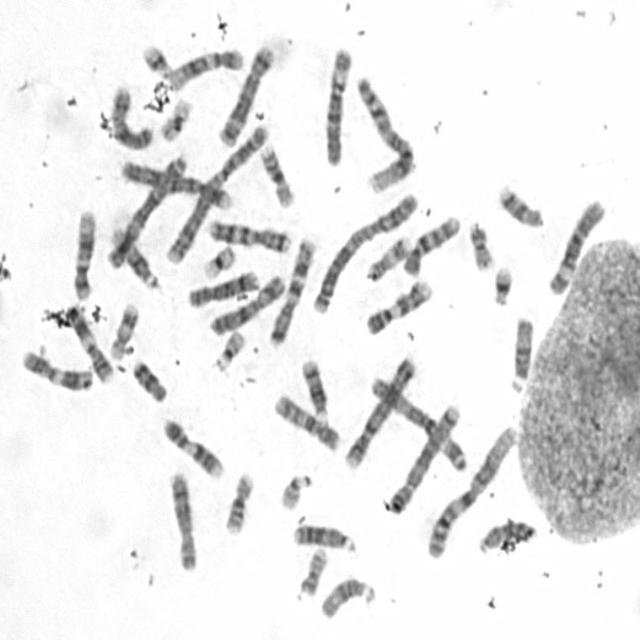A1: (422, 420, 520, 560), (352, 68, 418, 194)
A2: (162, 118, 272, 266), (308, 185, 420, 315)
A3: (364, 368, 470, 473), (102, 146, 189, 270)
B4: (341, 348, 419, 472), (116, 153, 235, 212)
B5: (383, 398, 465, 516), (214, 38, 277, 148)
C10: (268, 386, 343, 454), (397, 208, 463, 278)
C11: (62, 298, 115, 384), (17, 342, 95, 393)
C12: (162, 40, 245, 92), (67, 203, 97, 301)
C6: (543, 191, 607, 297), (317, 41, 354, 168)
C7: (263, 230, 319, 348), (202, 212, 292, 254)
C8: (164, 465, 199, 573), (182, 264, 261, 309)
C9: (157, 410, 227, 480), (361, 272, 434, 337)
D13: (474, 514, 538, 556), (288, 517, 359, 554)
D14: (106, 219, 160, 291), (296, 352, 331, 419)
D15: (316, 570, 378, 621), (506, 309, 535, 392)
E16: (255, 137, 297, 209), (220, 465, 256, 536)
E17: (362, 228, 412, 284), (105, 296, 141, 362)
E18: (494, 178, 546, 229), (128, 353, 170, 404)
F19: (155, 91, 194, 143), (198, 239, 238, 280)
F20: (294, 540, 330, 598), (464, 215, 496, 272)
G21: (136, 36, 174, 77), (488, 259, 515, 307)
G22: (209, 324, 247, 373), (275, 466, 315, 512)
X: (205, 268, 288, 337), (105, 79, 156, 151)
